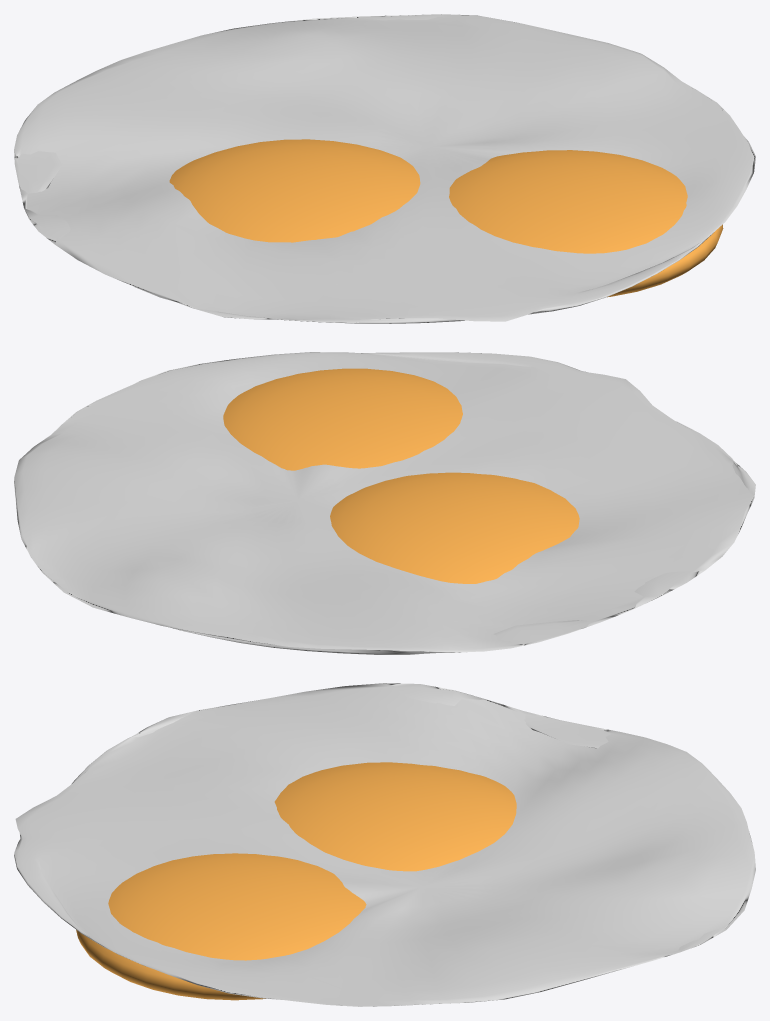
File: cookedEggs.fbx
The picture shows the model from 3 angles, top to bottom: view 1: azimuth 30°, elevation 25°; view 2: azimuth 150°, elevation 25°; view 3: azimuth 270°, elevation 25°; orthographic projection.
Visible parts, largest first — view 1: Sphere.024, Sphere.026, Sphere.025; view 2: Sphere.024, Sphere.025, Sphere.026; view 3: Sphere.024, Sphere.026, Sphere.025.
Part boxes in pixels (x1,y1,x2,y2): Sphere.024: [14, 14, 755, 323]; Sphere.026: [449, 150, 723, 297]; Sphere.025: [169, 139, 420, 242]; Sphere.024: [14, 352, 755, 654]; Sphere.025: [330, 472, 579, 583]; Sphere.026: [223, 368, 462, 470]; Sphere.024: [14, 683, 755, 1006]; Sphere.026: [76, 853, 366, 1000]; Sphere.025: [274, 762, 516, 871].
Size of the model in its own units: 236 by 28.96 by 234.
